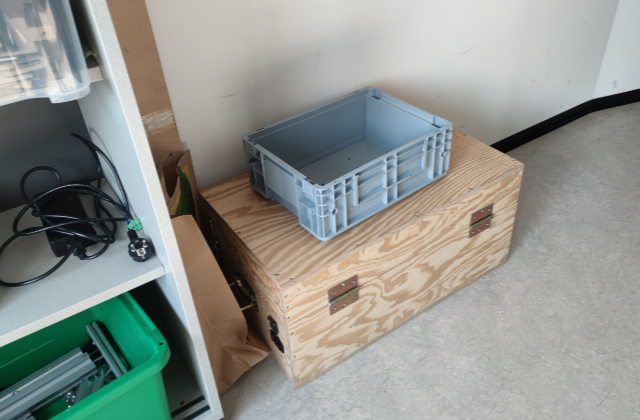Box: (238, 85, 453, 243)
